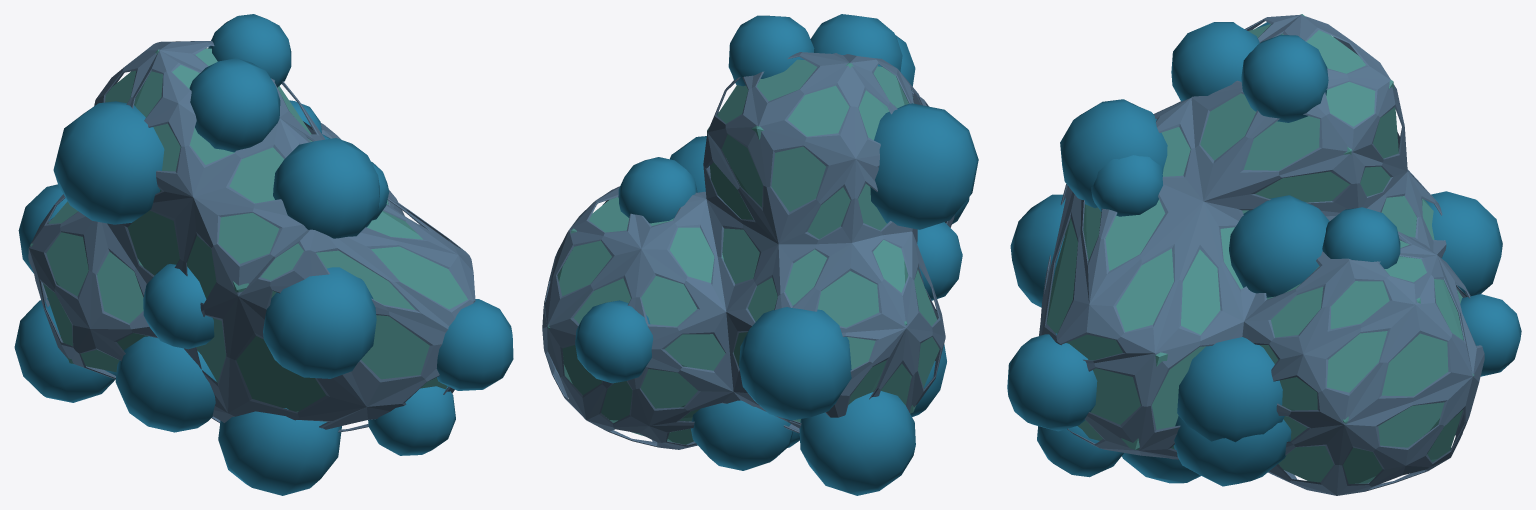
Rendered from glueBush3.fbx.
The picture shows the model from 3 angles, left to right: view 1: azimuth 30°, elevation 25°; view 2: azimuth 150°, elevation 25°; view 3: azimuth 270°, elevation 25°; orthographic projection. The views are drawn at different scales.
Visible parts, largest first — view 1: Mball.016; view 2: Mball.016; view 3: Mball.016.
Part boxes in pixels (x1,y1,x2,y2): Mball.016: [14, 14, 513, 495]; Mball.016: [542, 14, 978, 495]; Mball.016: [1007, 14, 1521, 495].
Bounding box in the file's own units: 243 × 272 × 282.
